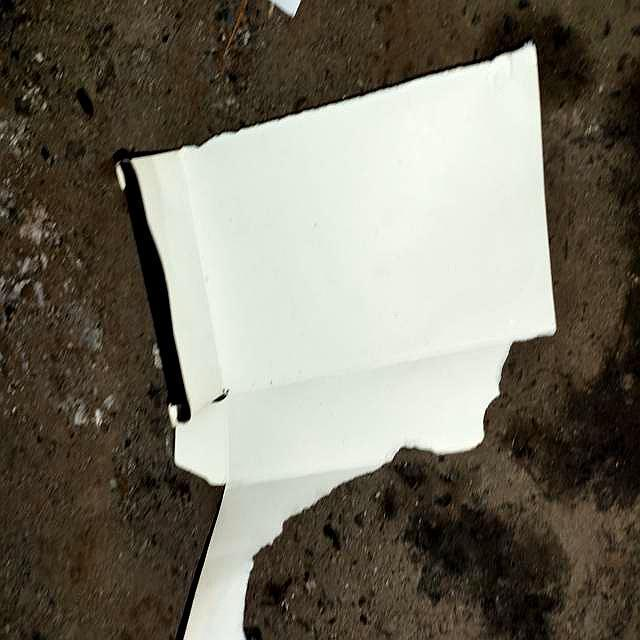Biodegradable: (112, 38, 562, 502)
